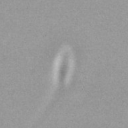normal: (21, 87, 64, 128)
